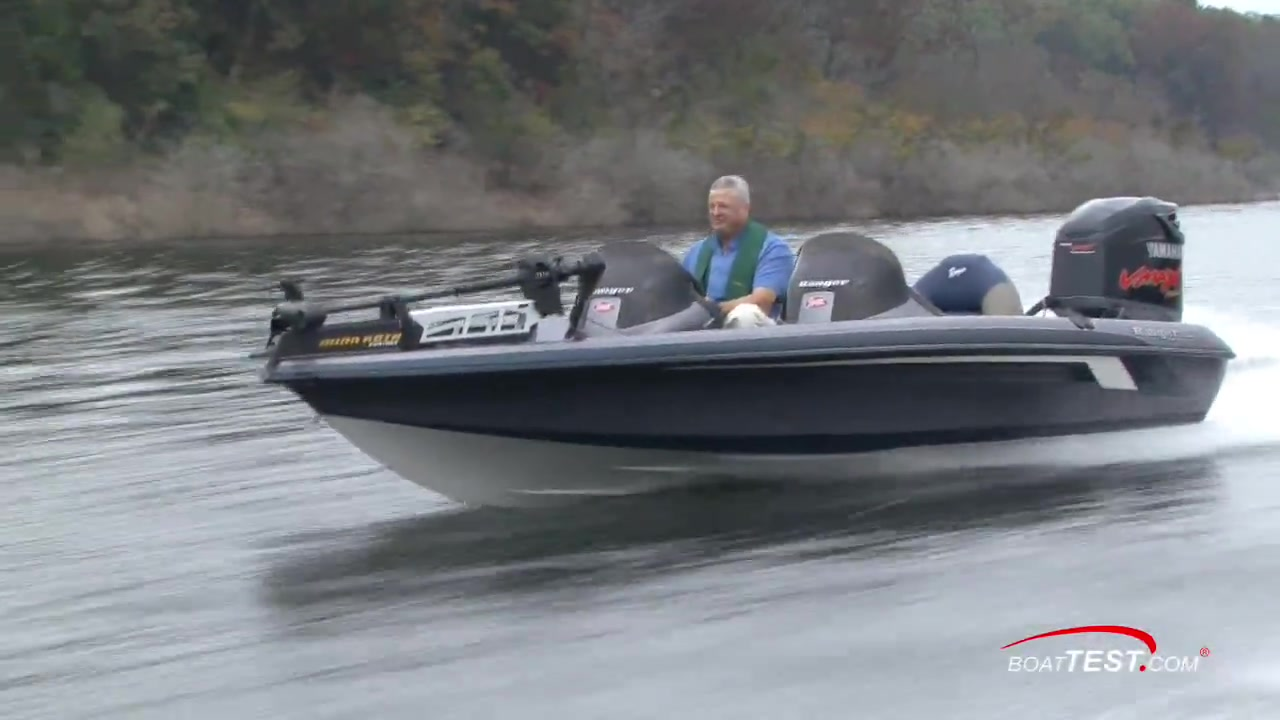boat: (257, 197, 1250, 513)
